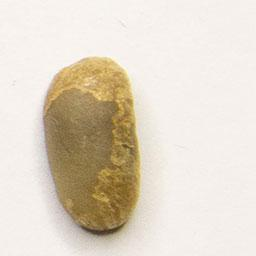longberry: (40, 52, 144, 240)
